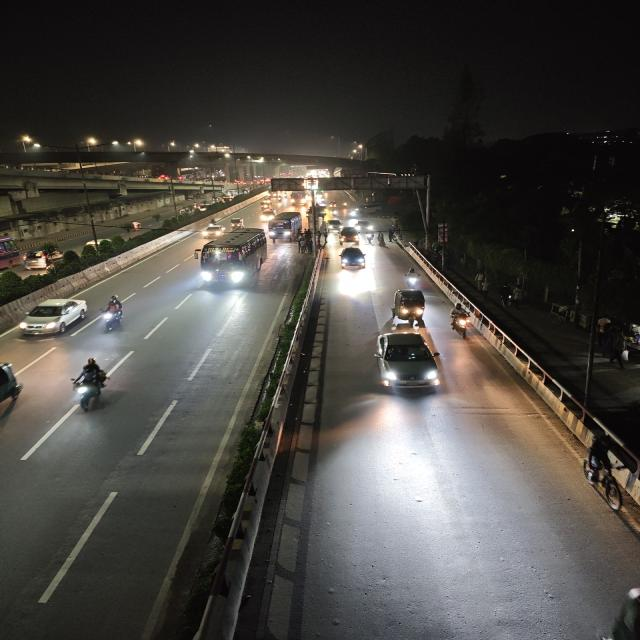bus: (195, 228, 271, 292), (268, 210, 303, 242), (0, 237, 20, 272)
car: (369, 328, 444, 398), (16, 296, 92, 342), (21, 247, 64, 271), (335, 245, 368, 273), (336, 227, 361, 246), (198, 222, 226, 238), (325, 218, 344, 231)
cng: (388, 287, 431, 327), (226, 216, 246, 230), (257, 208, 275, 222)
motorcycle: (65, 355, 114, 414), (97, 292, 129, 335), (446, 301, 477, 341), (401, 266, 424, 290), (128, 218, 143, 231), (365, 232, 376, 246)
